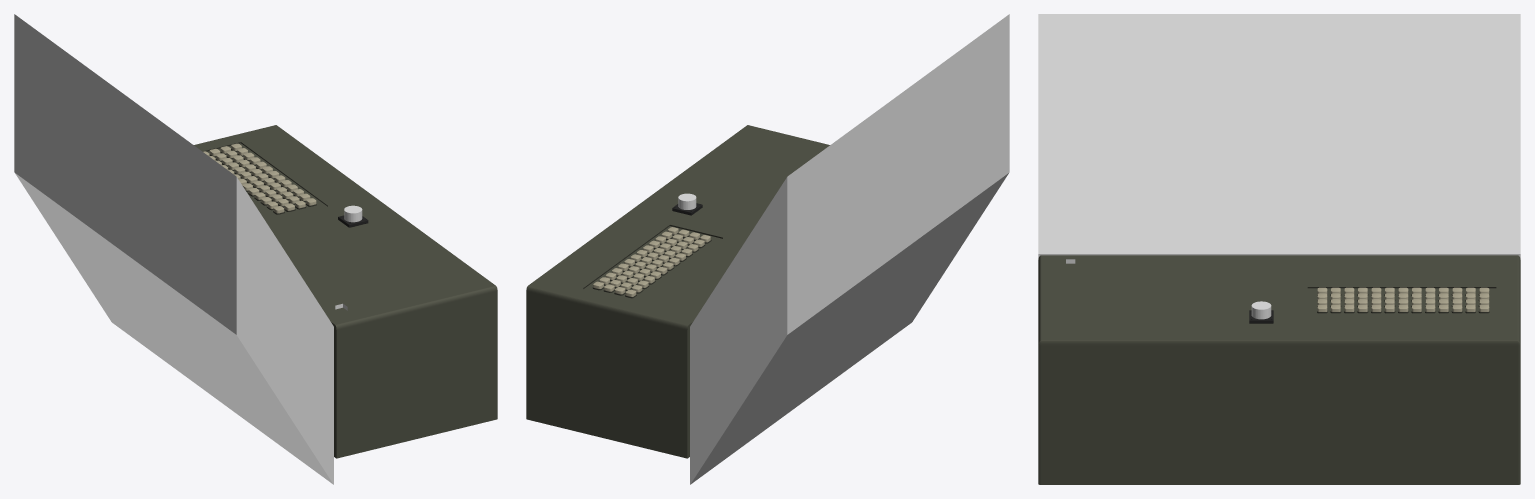
Rendered from panel_testing.glb.
3 views of the same model, side by side, from view 1: azimuth 30°, elevation 25°; view 2: azimuth 150°, elevation 25°; view 3: azimuth 270°, elevation 25° (orthographic). The views are drawn at different scales.
Parts seen in each view (by area): view 1: Panel Back 1, Panel Surface 1, Key Surround 1; view 2: Panel Back 1, Panel Surface 1, Key Surround 1; view 3: Panel Back 1, Panel Surface 1, Key Surround 1.
Part boxes in pixels (box(x1,y1,x2,y2)): Panel Back 1: box(14, 14, 333, 484); Panel Surface 1: box(194, 125, 497, 458); Key Surround 1: box(202, 142, 327, 214); Panel Back 1: box(690, 14, 1009, 484); Panel Surface 1: box(526, 125, 829, 458); Key Surround 1: box(583, 225, 722, 298); Panel Back 1: box(1038, 14, 1520, 259); Panel Surface 1: box(1038, 255, 1520, 484); Key Surround 1: box(1307, 287, 1496, 313).
Size of the model in its own units: 2.13 by 2.59 by 3.13.
